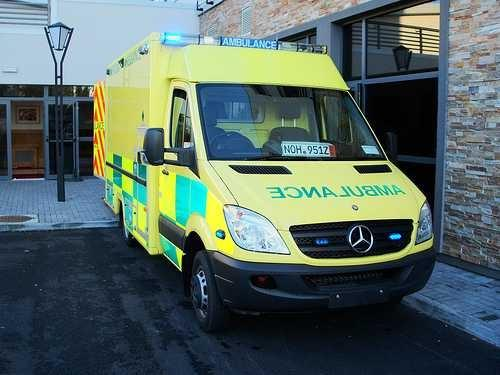car: (90, 30, 436, 332)
